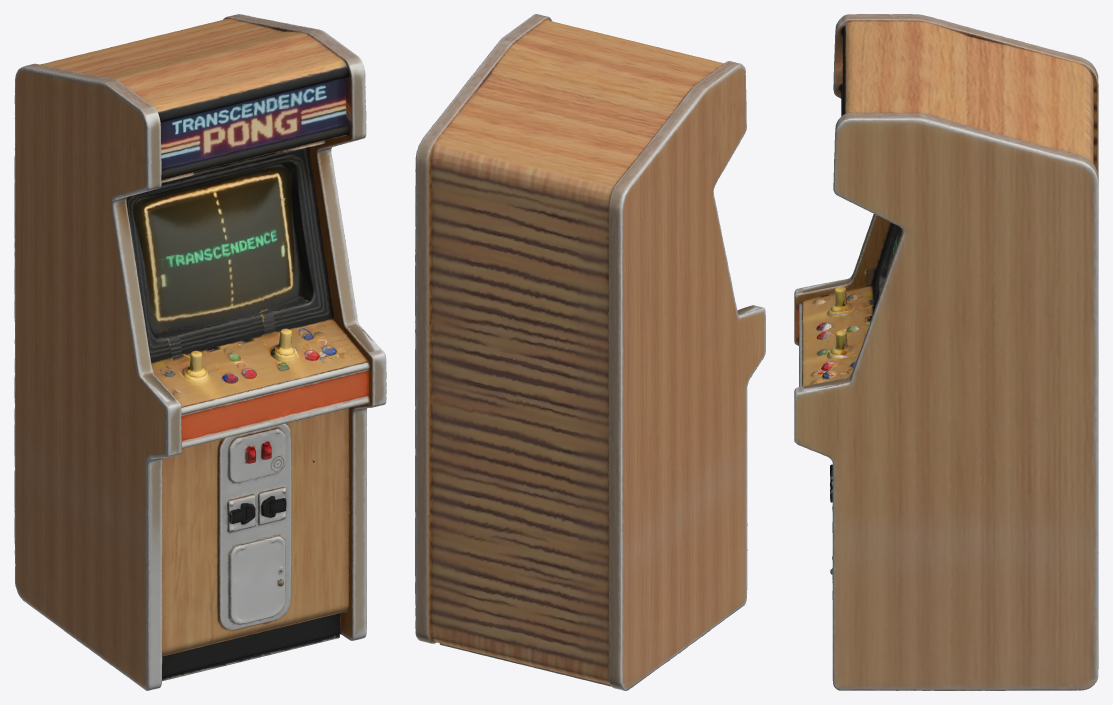
Rendered from arcade.glb.
3 renders of one model, left to right at view 1: azimuth 30°, elevation 25°; view 2: azimuth 150°, elevation 25°; view 3: azimuth 270°, elevation 25°, orthographic. The views are drawn at different scales.
Bounding box in the file's own units: 0.7478 × 1.9 × 0.9097.
1 material, 1 textured.
